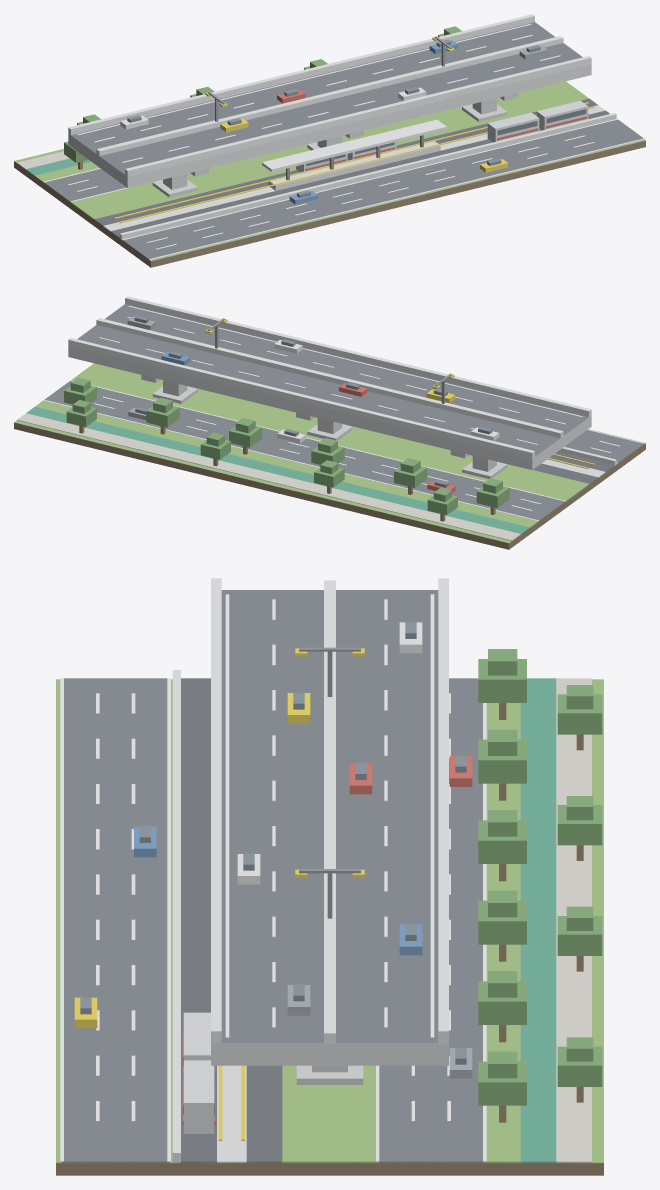
File: via-expresa-simple.glb
3 views of the same model, one above another, from view 1: azimuth 30°, elevation 25°; view 2: azimuth 150°, elevation 25°; view 3: azimuth 270°, elevation 25° (orthographic). The views are drawn at different scales.
Parts seen in each view (by area): view 1: ViaExpresaElevada; view 2: ViaExpresaElevada; view 3: ViaExpresaElevada.
Part boxes in pixels (<box>): ViaExpresaElevada: <box>14,14,645,267</box>; ViaExpresaElevada: <box>14,296,645,549</box>; ViaExpresaElevada: <box>56,578,603,1175</box>.
Size of the model in its own units: 96 by 16.2 by 46.
